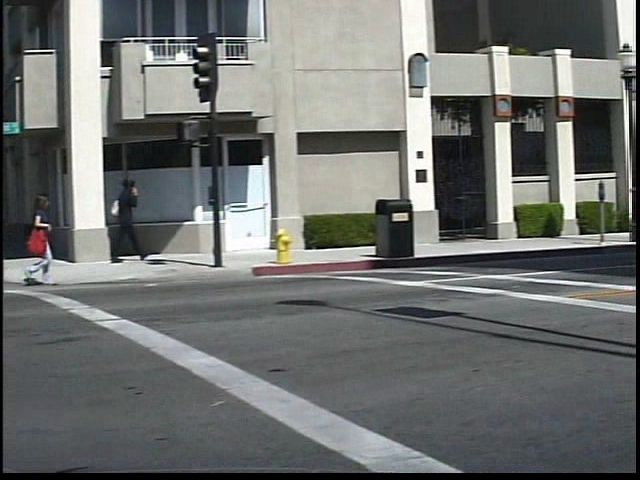person: (21, 185, 71, 296), (115, 174, 162, 264)
